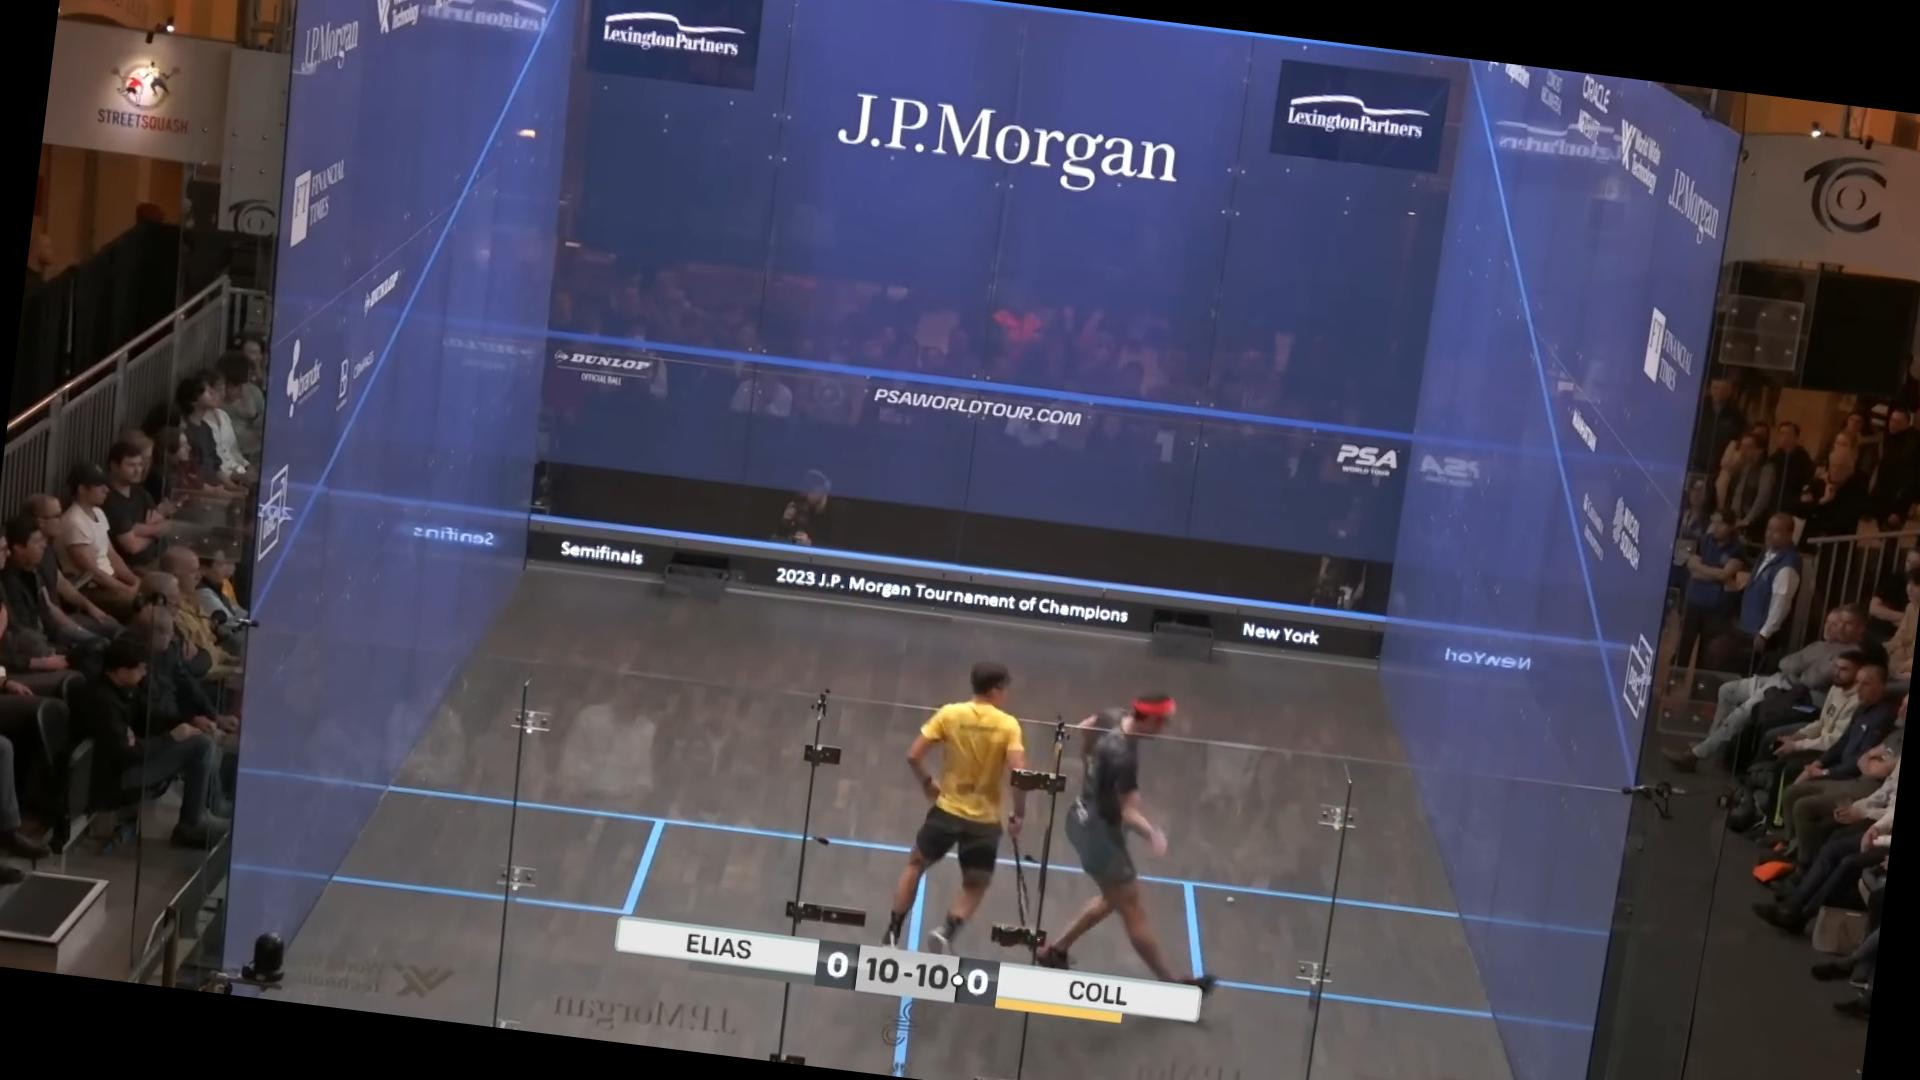Racket: (989, 820, 1054, 938)
